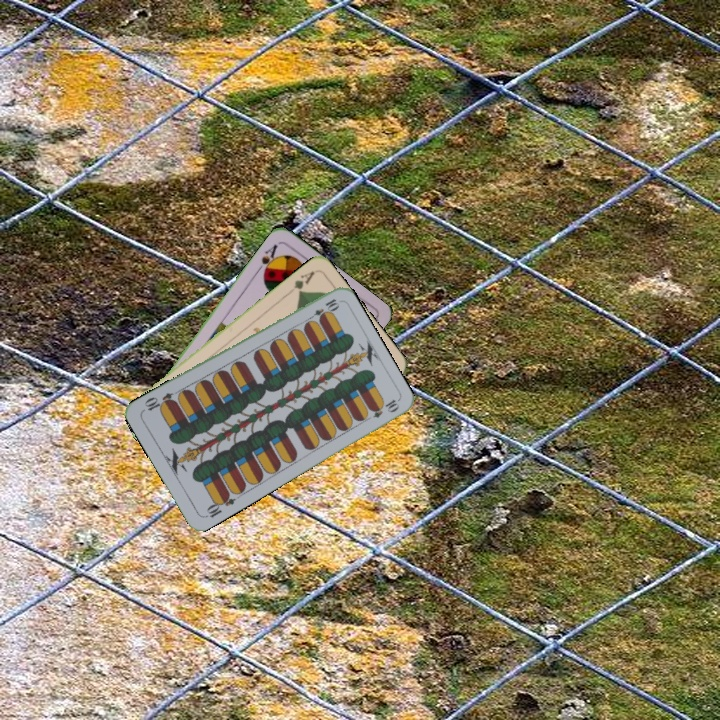E10: (201, 489, 238, 520), (303, 294, 341, 324)
GA: (289, 267, 317, 297)
SA: (253, 240, 280, 278)
